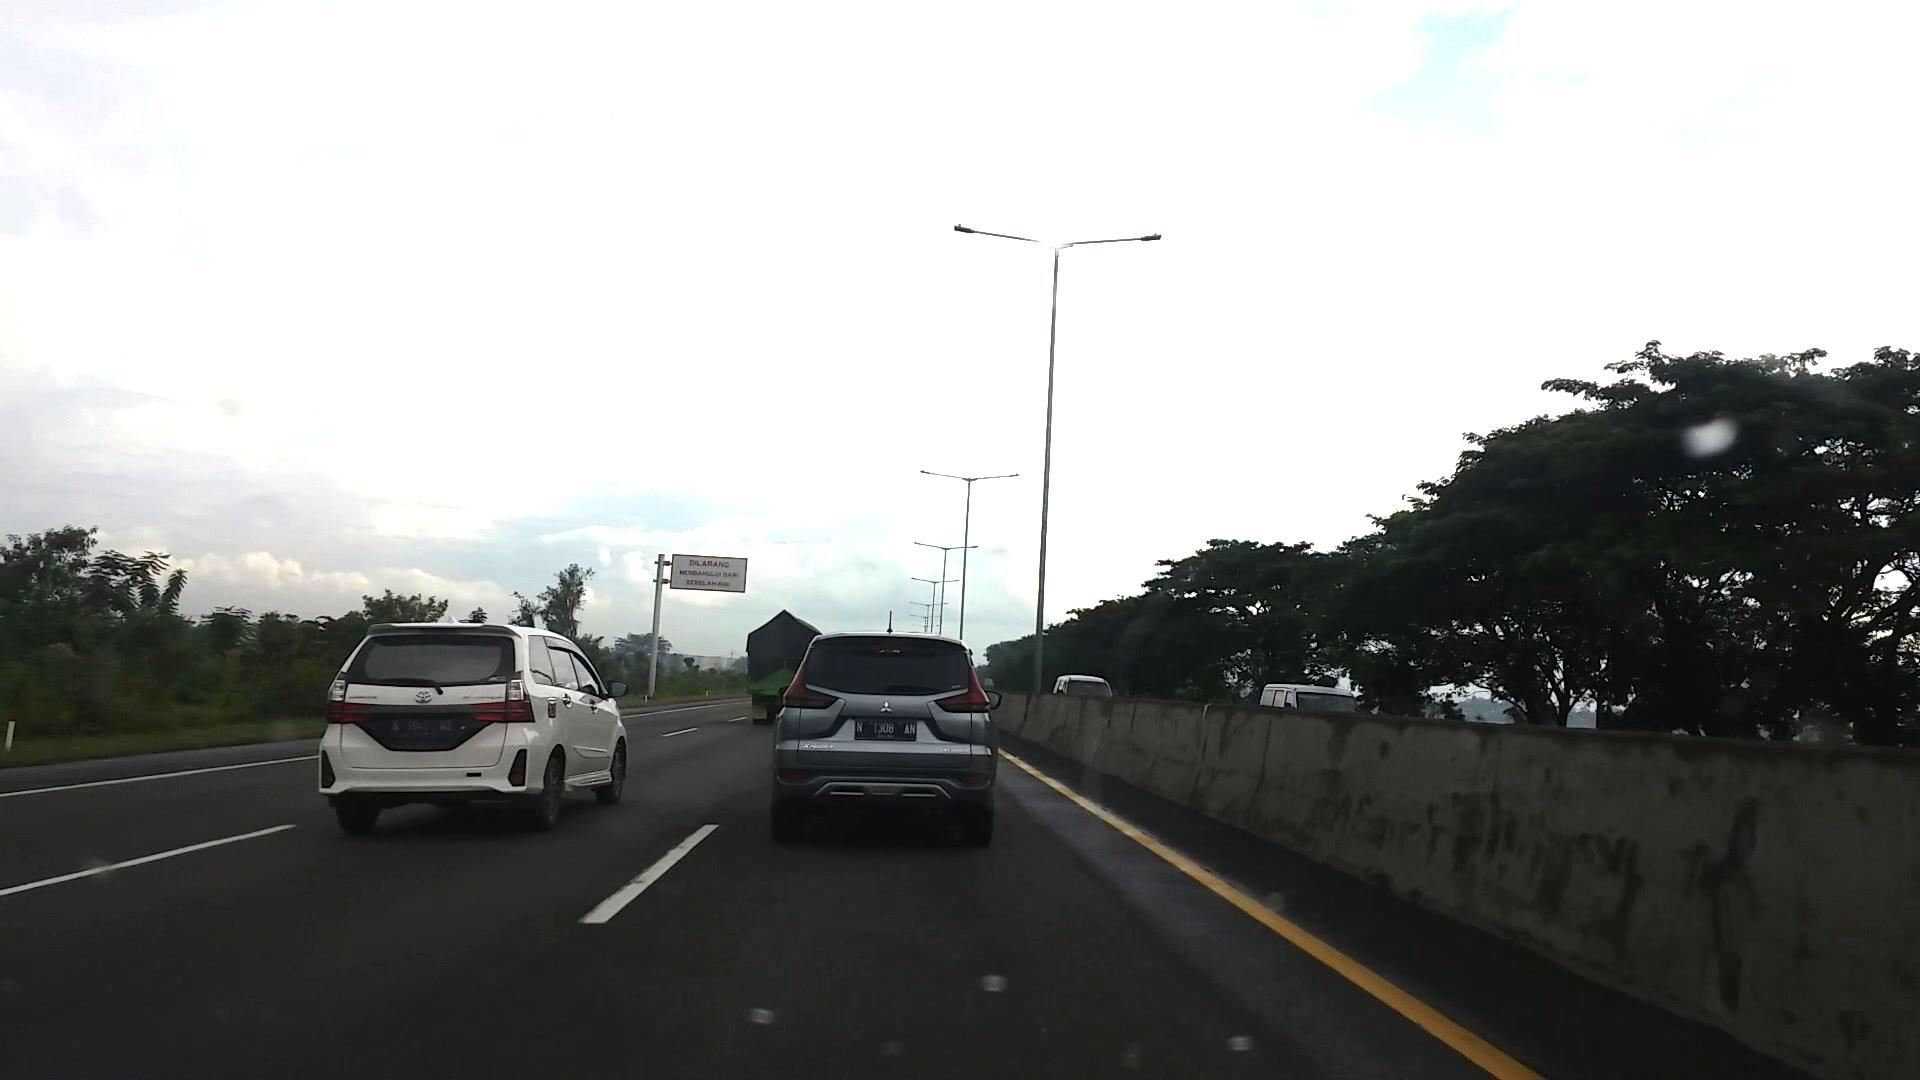plate_positive: (855, 719, 916, 740)
